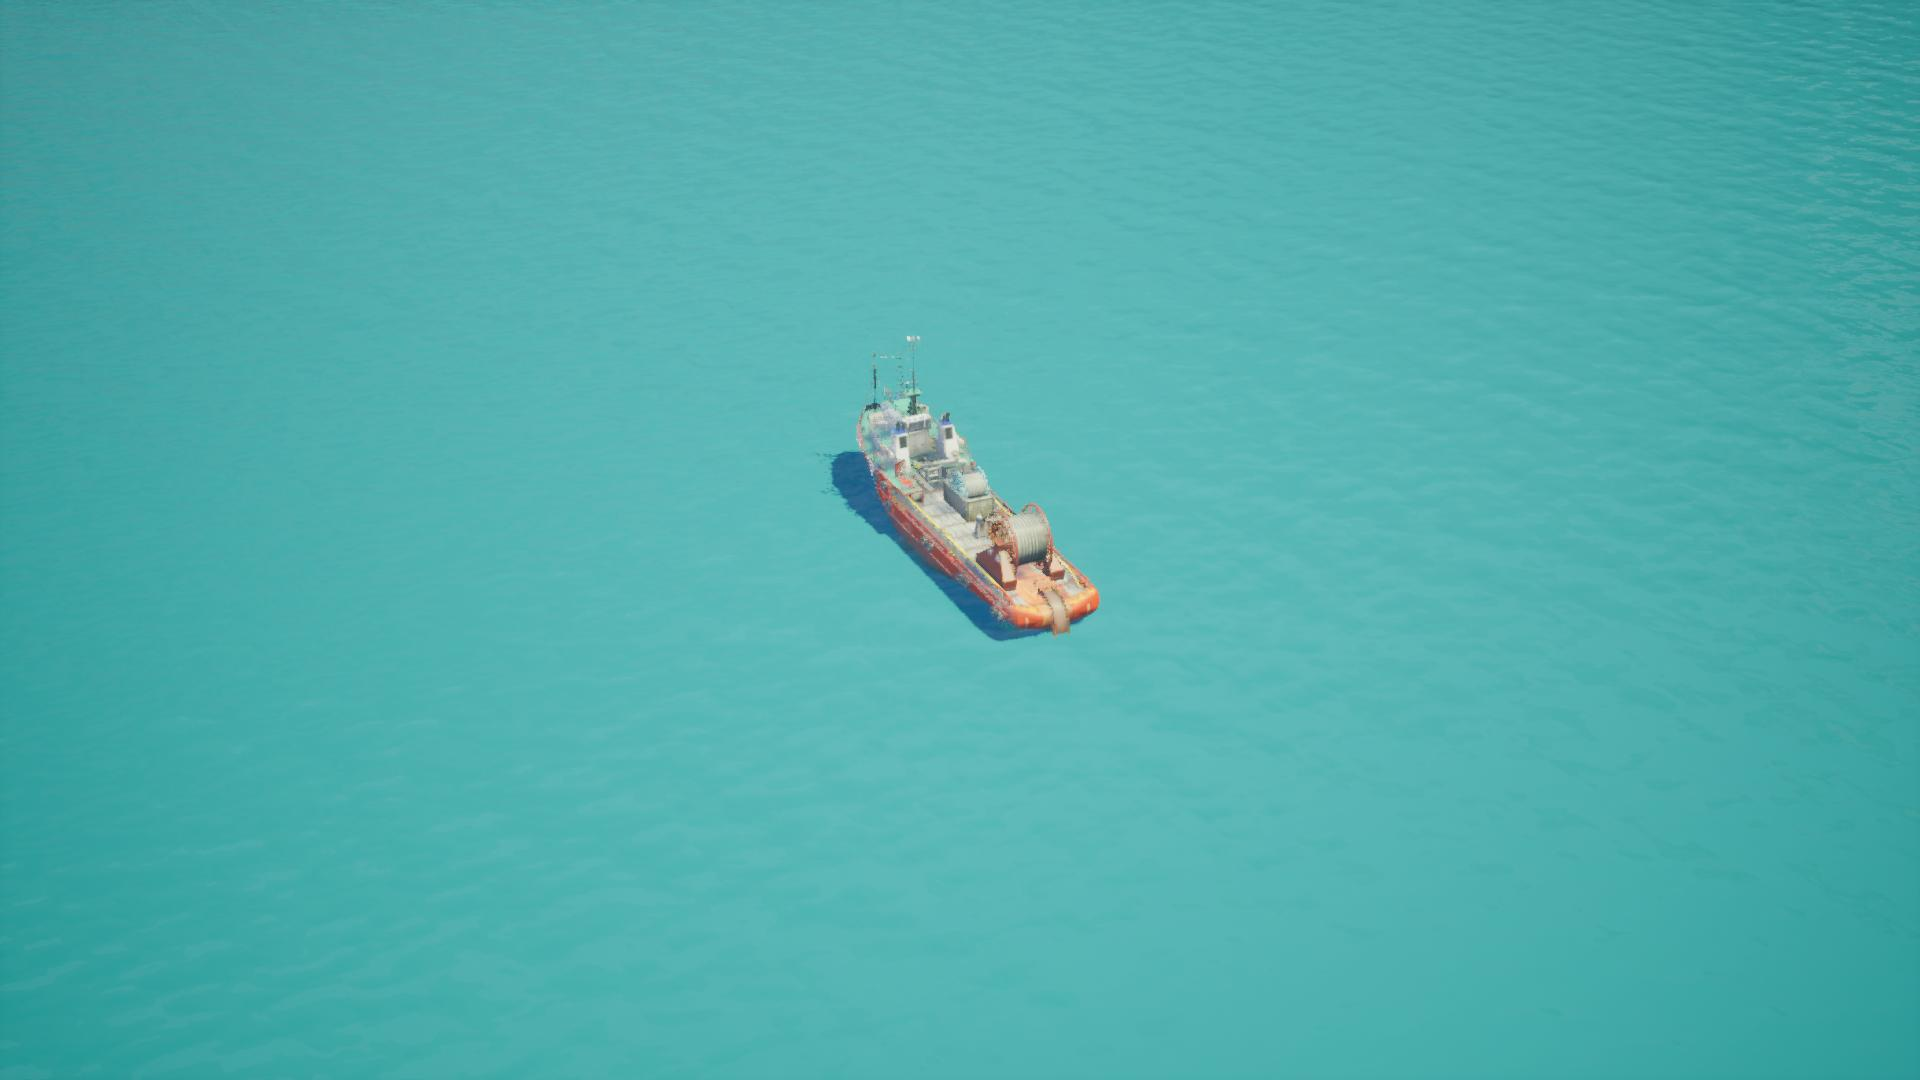Tug Boat: (790, 283, 1108, 702)
